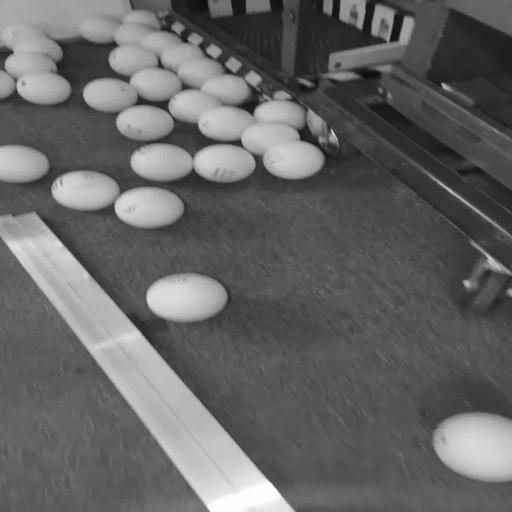fuel: (433, 413, 511, 482), (147, 273, 228, 322), (241, 100, 306, 155), (115, 187, 184, 229), (52, 170, 120, 211), (263, 140, 325, 179), (193, 144, 256, 182), (131, 144, 192, 181), (116, 105, 174, 141), (198, 106, 255, 142), (0, 145, 50, 183), (168, 89, 222, 123), (83, 79, 137, 113), (130, 67, 182, 102), (17, 72, 71, 105), (201, 74, 252, 106), (109, 45, 158, 77), (178, 57, 225, 88), (5, 52, 57, 79), (13, 36, 63, 63), (161, 43, 204, 72), (79, 15, 121, 44), (0, 24, 45, 49), (140, 31, 182, 57), (114, 24, 155, 45), (123, 10, 161, 29), (0, 70, 16, 100)
